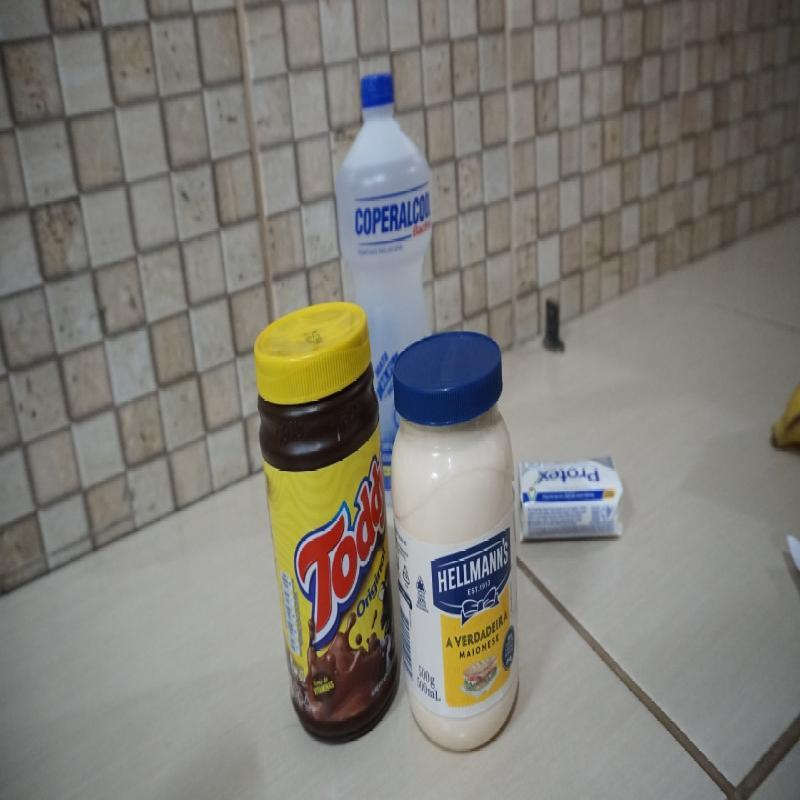Alcohol Bottle: (333, 78, 434, 324)
Chocolate Powder: (251, 301, 402, 748)
Mayonnaise: (396, 333, 522, 752)
Soap: (519, 452, 624, 548)
